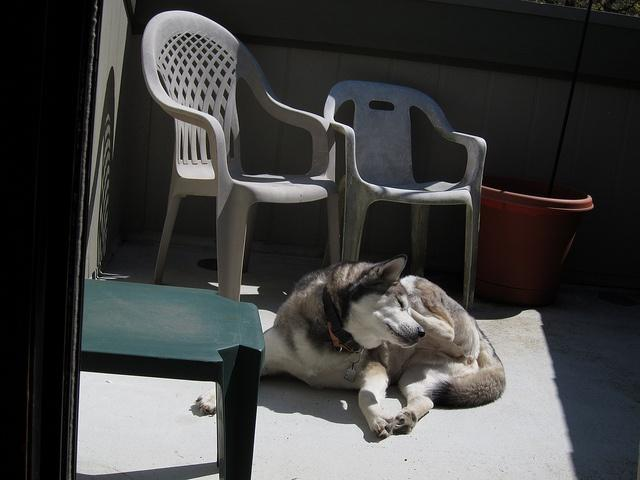Kursi: (140, 8, 341, 300), (322, 77, 489, 314)
